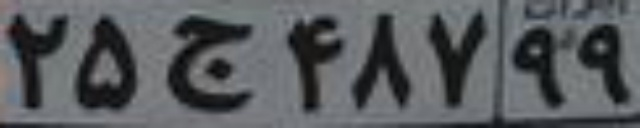2: (4, 11, 68, 109)
4: (287, 15, 343, 112)
5: (72, 17, 139, 110)
7: (425, 8, 491, 107)
8: (349, 13, 414, 111)
9: (576, 21, 632, 105), (510, 26, 566, 109)
jim: (164, 17, 257, 112)
